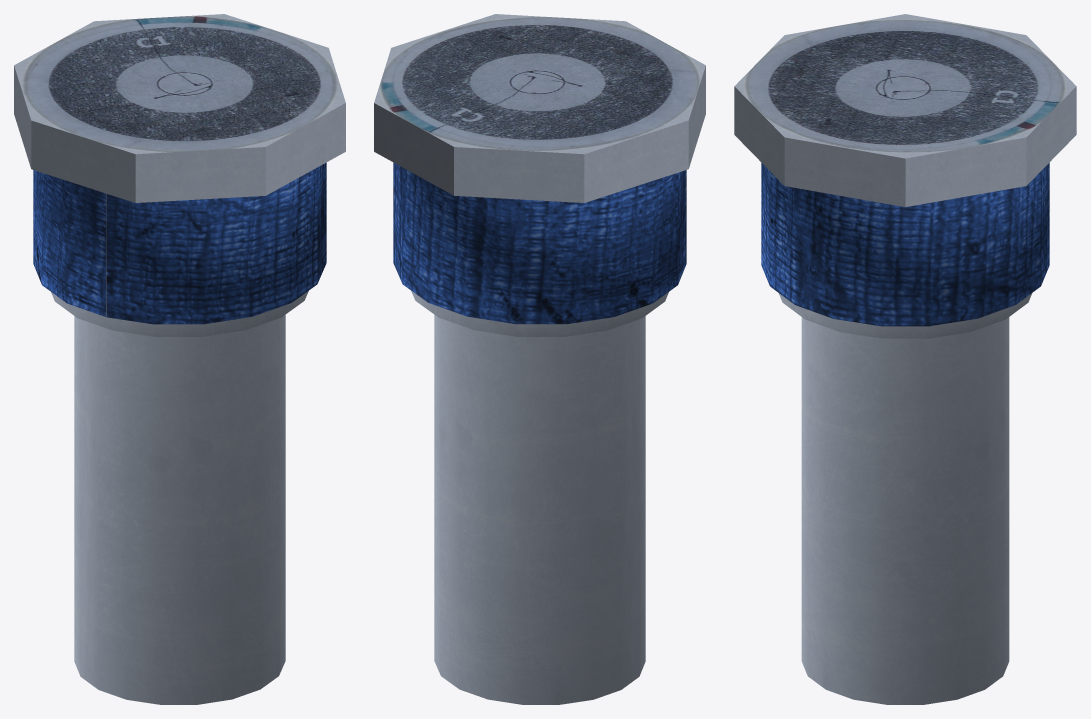
Rendered from PipestarHead.dae.
3 renders of one model, left to right at view 1: azimuth 30°, elevation 25°; view 2: azimuth 150°, elevation 25°; view 3: azimuth 270°, elevation 25°, orthographic.
Parts seen in each view (by area): view 1: Cylinder_000; view 2: Cylinder_000; view 3: Cylinder_000.
Part boxes in pixels (left/top/right/bottom): Cylinder_000: left=14, top=14, right=345, bottom=704; Cylinder_000: left=374, top=14, right=705, bottom=704; Cylinder_000: left=734, top=14, right=1076, bottom=704.
Size of the model in its own units: 0.051 by 0.051 by 0.0945.
1 material, 1 textured.
